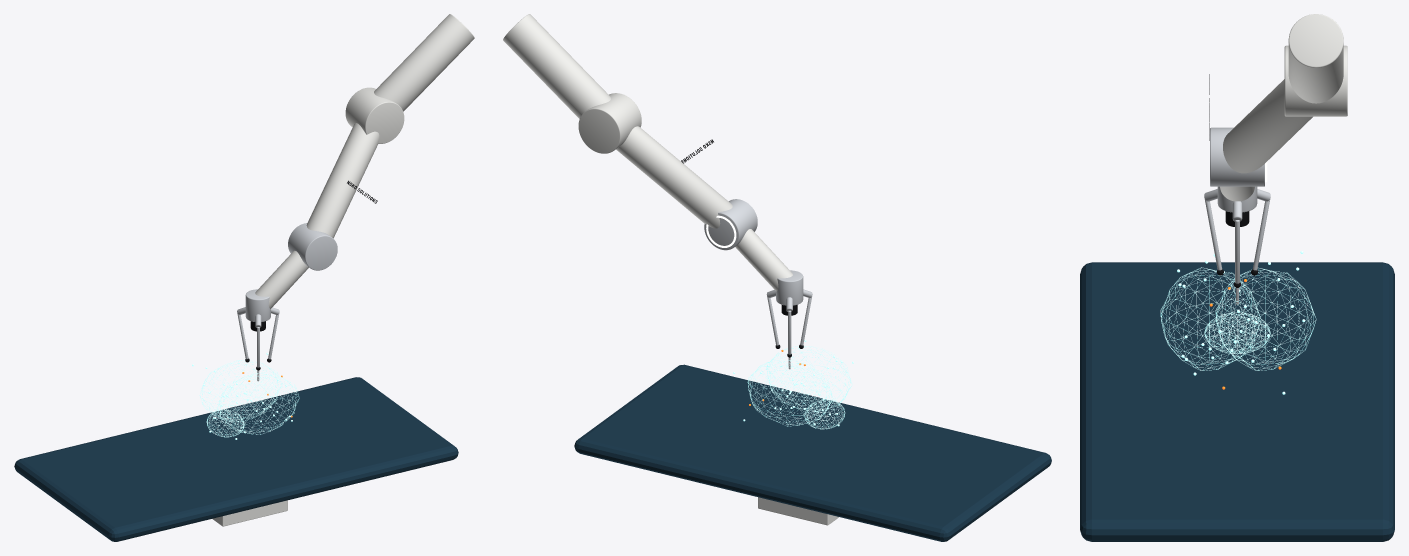
File: surgical.glb
3 renders of one model, left to right at view 1: azimuth 30°, elevation 25°; view 2: azimuth 150°, elevation 25°; view 3: azimuth 270°, elevation 25°, orthographic. The views are drawn at different scales.
Visible parts, largest first — view 1: Cube, Cylinder, Cylinder.002, Cylinder.001, Cylinder.003, Icosphere.001, Icosphere, Cylinder.004, Cube.001, Cylinder.005; view 2: Cube, Cylinder, Cylinder.002, Cylinder.001, Icosphere, Icosphere.001, Cylinder.003, Cylinder.004, Cube.001, Cylinder.005; view 3: Cube, Cylinder, Cylinder.002, Icosphere.001, Icosphere, Cylinder.001, Cylinder.003, Icosphere.002, Cylinder.005, Cylinder.004, Cylinder.012.
Boxes of the visible parts, box(x1,y1,x2,y2) form: Cube: box(14, 377, 458, 541); Cylinder: box(374, 14, 474, 111); Cylinder.002: box(306, 123, 379, 238); Cylinder.001: box(345, 87, 404, 143); Cylinder.003: box(288, 223, 337, 270); Icosphere.001: box(217, 372, 299, 434); Icosphere: box(199, 359, 281, 421); Cylinder.004: box(255, 250, 308, 308); Cube.001: box(212, 500, 287, 526); Cylinder.005: box(245, 289, 270, 321); Cube: box(574, 364, 1051, 541); Cylinder: box(503, 14, 610, 118); Cylinder.002: box(616, 126, 732, 228); Cylinder.001: box(578, 93, 641, 153); Icosphere: box(747, 359, 833, 426); Icosphere.001: box(766, 346, 852, 412); Cylinder.003: box(704, 199, 757, 250); Cylinder.004: box(735, 229, 792, 291); Cube.001: box(758, 497, 838, 525); Cylinder.005: box(776, 270, 803, 305); Cube: box(1080, 262, 1394, 541); Cylinder: box(1288, 14, 1343, 103); Cylinder.002: box(1223, 79, 1312, 173); Icosphere.001: box(1160, 267, 1261, 370); Icosphere: box(1215, 267, 1316, 370); Cylinder.001: box(1284, 45, 1347, 116); Cylinder.003: box(1210, 127, 1264, 186); Icosphere.002: box(1204, 312, 1270, 353); Cylinder.005: box(1217, 186, 1257, 212); Cylinder.004: box(1220, 186, 1254, 201); Cylinder.012: box(1204, 199, 1222, 270).
Size of the model in its own units: 1.99 by 1.8 by 0.8.
